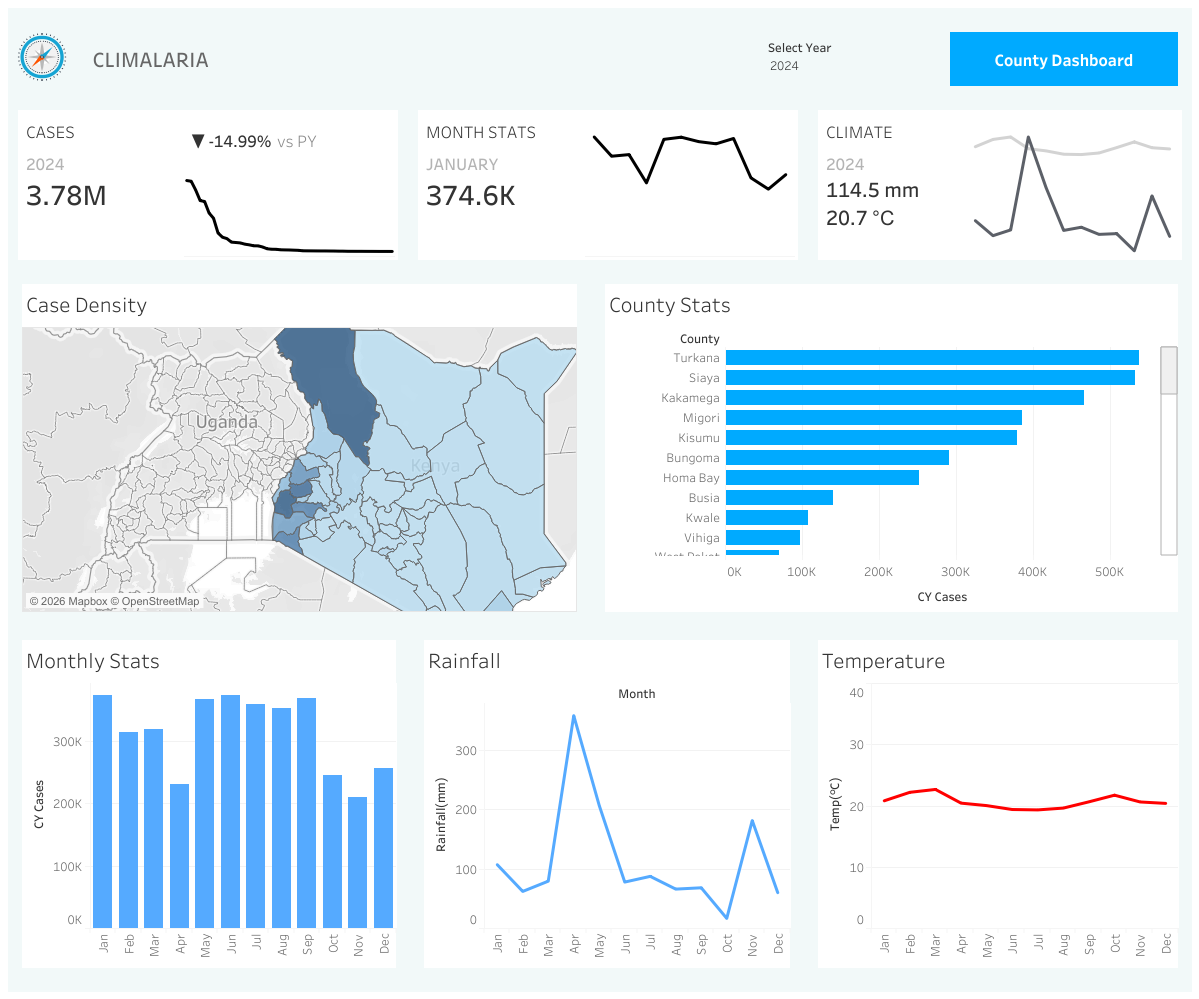

The dashboard page shown, as its layout file describes it:
{"tool":"tableau","page":{"name":"Country Dashboard","canvas":[1200,1000],"ordinal":0},"visuals":[{"type":"blank","box":[8,8,1184,20]},{"type":"image","param":"Image/Icon - Logo.png","box":[8,28,68,62]},{"type":"text","box":[86,28,860,62]},{"type":"dashboard-object","box":[946,28,236,62]},{"type":"parameter","param":"[Parameters].[Parameter 1]","box":[768,37,160,44]},{"type":"blank","box":[8,90,1184,20]},{"type":"blank","box":[8,110,10,150]},{"type":"worksheet","title":"Year KPI","mark":"Automatic","box":[18,110,162,105]},{"type":"worksheet","title":"%Change","mark":"Automatic","box":[180,110,218,46]},{"type":"blank","box":[398,110,20,150]},{"type":"worksheet","title":"Month KPI","mark":"Text","box":[418,110,163,150]},{"type":"worksheet","title":"Month Trend","mark":"Line","rows":["Calculation_661184770404614145"],"cols":["Month"],"box":[581,110,216.9,150]},{"type":"blank","box":[798,110,20,150]},{"type":"worksheet","title":"Climate KPI ","mark":"Automatic","box":[818,110,144,150]},{"type":"worksheet","title":"Climate","mark":"Line","rows":["Calculation_661184770405847043","Calculation_661184770405720066"],"cols":["Month"],"box":[962,110,219.9,150]},{"type":"blank","box":[1182,110,10,150]},{"type":"worksheet","title":"County Trend","mark":"Line","rows":["Calculation_661184770404614145"],"cols":["County"],"box":[180,156,218,104]},{"type":"blank","box":[8,260,1184,20]},{"type":"blank","box":[8,280,10,336]},{"type":"worksheet","title":"Case Density","mark":"Multipolygon","box":[18,280,563,336]},{"type":"blank","box":[581,280,20,336]},{"type":"worksheet","title":"County Stats","mark":"Bar","rows":["County"],"cols":["Calculation_661184770404614145"],"box":[601,280,581,336]},{"type":"blank","box":[1182,280,10,336]},{"type":"blank","box":[8,616,1184,20]},{"type":"blank","box":[8,636,10,336]},{"type":"worksheet","title":"Month Stats","mark":"Automatic","rows":["Calculation_661184770404614145"],"cols":["Month"],"box":[18,636,381.6,336]},{"type":"blank","box":[399.7,636,20,336]},{"type":"worksheet","title":"Rainfall","mark":"Line","rows":["Calculation_661184770405720066"],"cols":["Month"],"box":[419.7,636,374.7,336]},{"type":"blank","box":[794.3,636,20,336]},{"type":"worksheet","title":"Temp","mark":"Line","rows":["Calculation_661184770405847043"],"cols":["Month"],"box":[814.3,636,367.6,336]},{"type":"blank","box":[1182,636,10,336]},{"type":"blank","box":[8,972,1184,20]}]}

Visuals, with their boxes in screenshot pixels (x1, y1, x2, y2), scaled from the page's 1200x1000 canvas onto the 1199x999 screenshot:
blank: box=[8, 8, 1191, 28]
image: box=[8, 28, 76, 90]
text: box=[86, 28, 945, 90]
dashboard-object: box=[945, 28, 1181, 90]
parameter: box=[767, 37, 927, 81]
blank: box=[8, 90, 1191, 110]
blank: box=[8, 110, 18, 260]
"Year KPI" worksheet: box=[18, 110, 180, 215]
"%Change" worksheet: box=[180, 110, 398, 156]
blank: box=[398, 110, 418, 260]
"Month KPI" worksheet (Text marks): box=[418, 110, 581, 260]
"Month Trend" worksheet (Line marks): box=[581, 110, 797, 260]
blank: box=[797, 110, 817, 260]
"Climate KPI " worksheet: box=[817, 110, 961, 260]
"Climate" worksheet (Line marks): box=[961, 110, 1181, 260]
blank: box=[1181, 110, 1191, 260]
"County Trend" worksheet (Line marks): box=[180, 156, 398, 260]
blank: box=[8, 260, 1191, 280]
blank: box=[8, 280, 18, 615]
"Case Density" worksheet (Multipolygon marks): box=[18, 280, 581, 615]
blank: box=[581, 280, 600, 615]
"County Stats" worksheet (Bar marks): box=[600, 280, 1181, 615]
blank: box=[1181, 280, 1191, 615]
blank: box=[8, 615, 1191, 635]
blank: box=[8, 635, 18, 971]
"Month Stats" worksheet: box=[18, 635, 399, 971]
blank: box=[399, 635, 419, 971]
"Rainfall" worksheet (Line marks): box=[419, 635, 794, 971]
blank: box=[794, 635, 814, 971]
"Temp" worksheet (Line marks): box=[814, 635, 1181, 971]
blank: box=[1181, 635, 1191, 971]
blank: box=[8, 971, 1191, 991]
